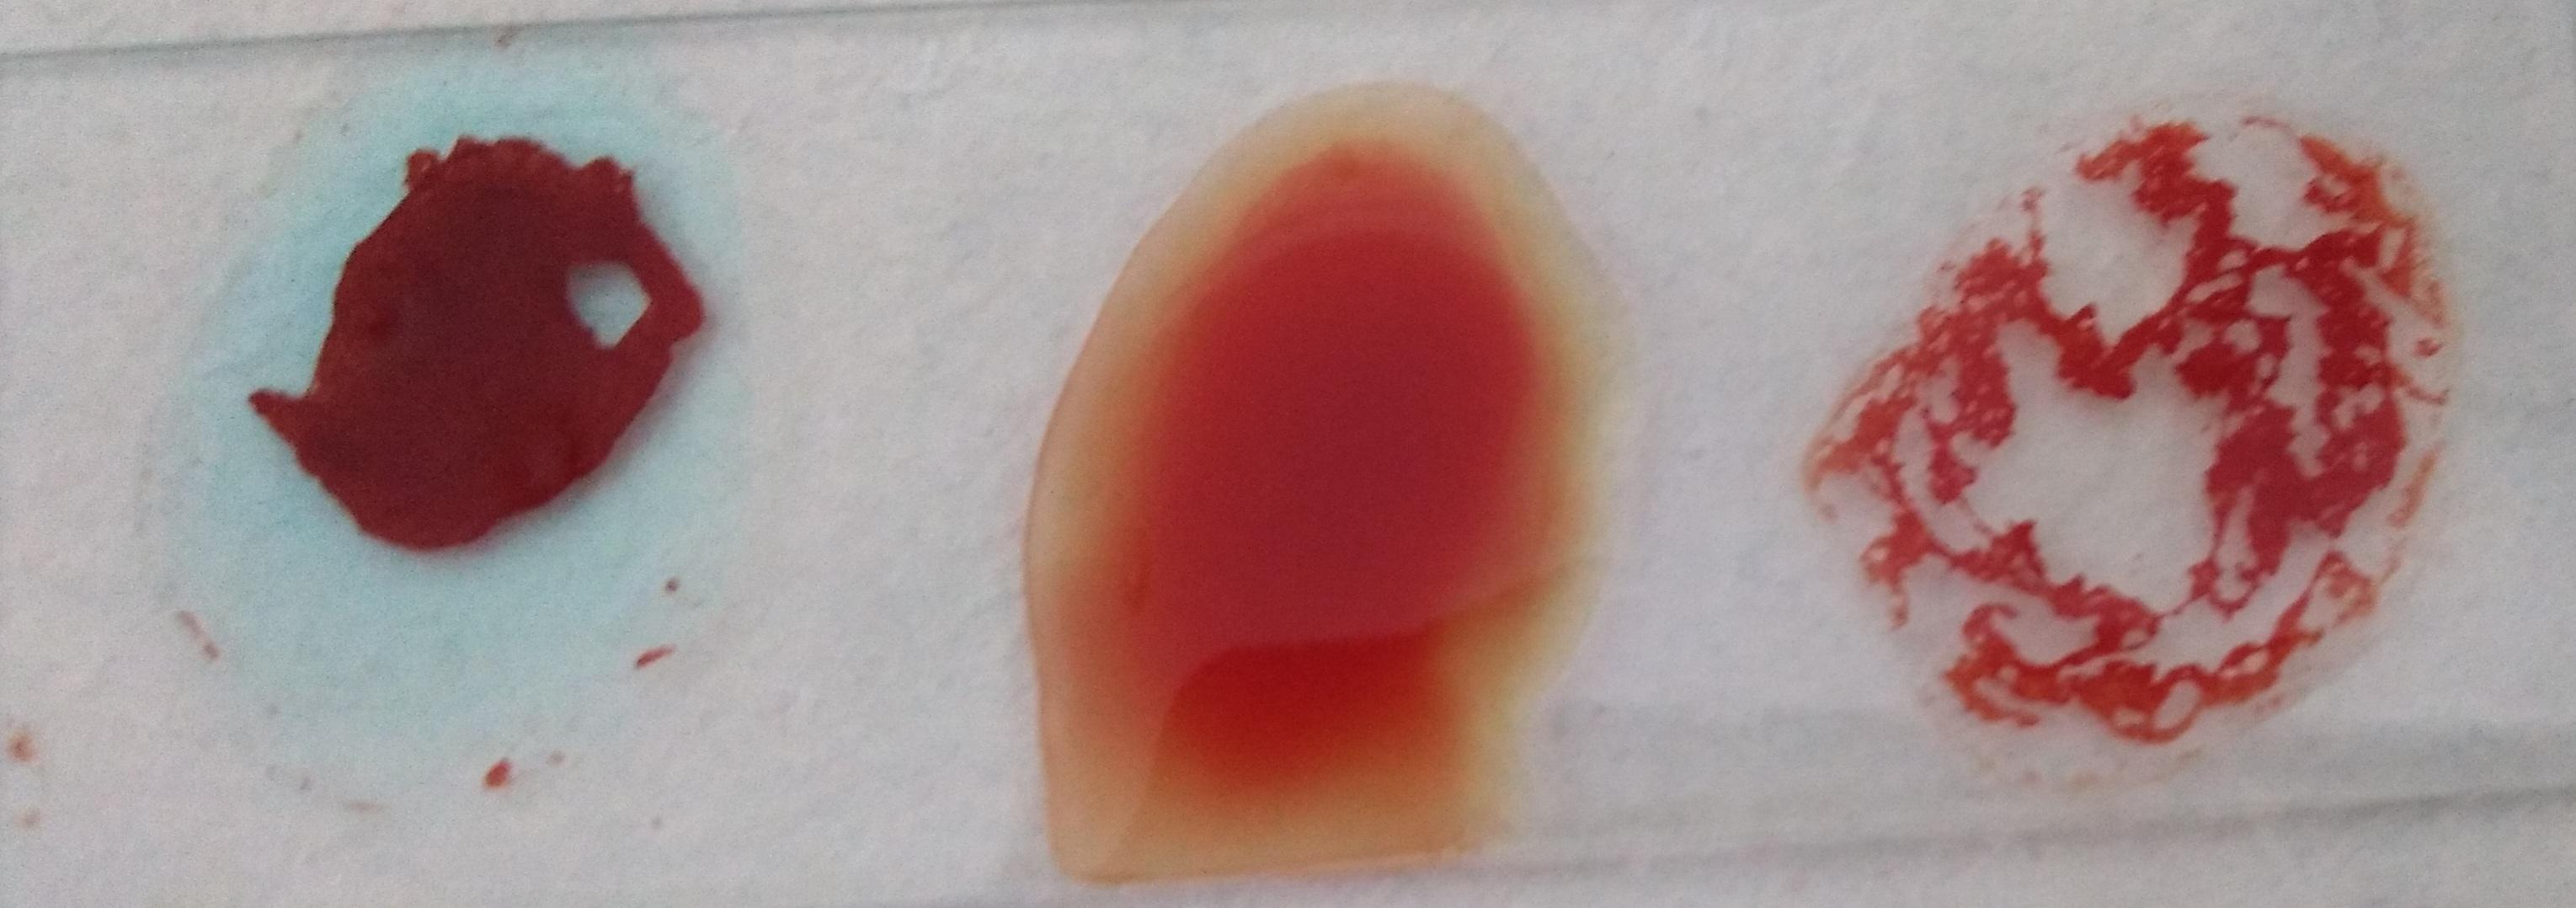A: (186, 67, 715, 760)
D: (1876, 110, 2459, 749)
